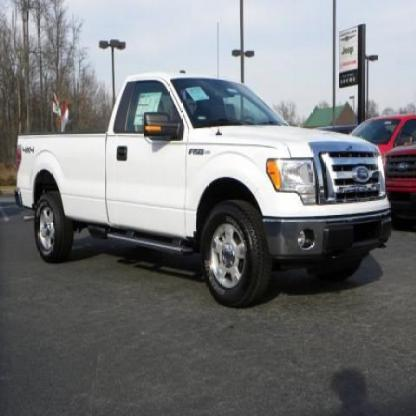Vehicle: (16, 75, 397, 310)
